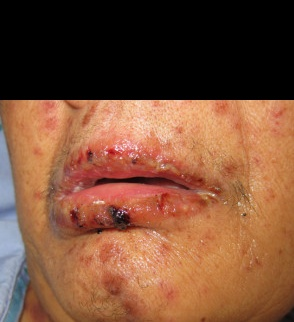SJS-TEN: (48, 134, 242, 252)
